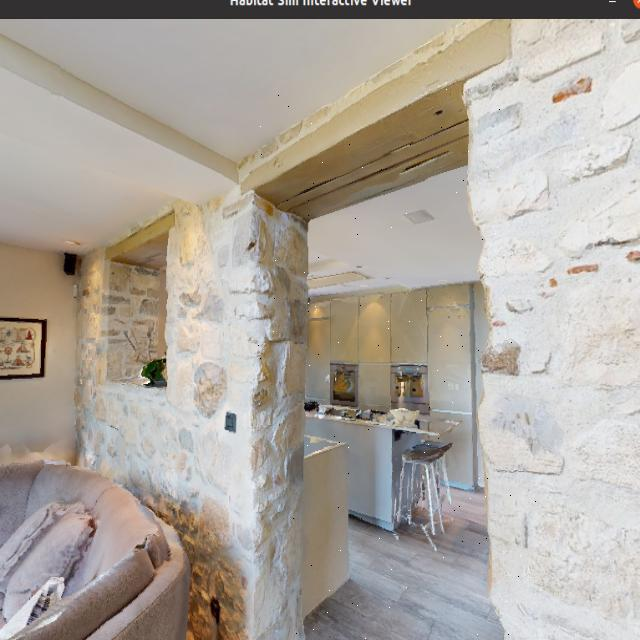chair: (389, 419, 463, 571)
door-frame: (247, 87, 540, 640)
